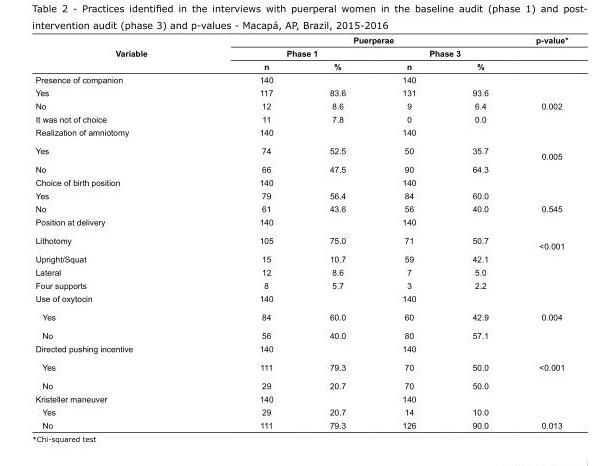table: (34, 35, 567, 429)
table column: (34, 35, 202, 429), (202, 35, 300, 429), (300, 35, 373, 429), (373, 35, 443, 429), (443, 35, 511, 429), (511, 35, 567, 429)
table row: (34, 230, 567, 252), (34, 141, 567, 162), (34, 357, 567, 376), (34, 307, 567, 325), (34, 125, 567, 141), (34, 291, 567, 307), (34, 325, 567, 341), (34, 341, 567, 357), (34, 215, 567, 230), (34, 376, 567, 391), (34, 85, 567, 99), (34, 201, 567, 215), (34, 391, 567, 405), (34, 46, 567, 59), (34, 59, 567, 72), (34, 72, 567, 85), (34, 99, 567, 112), (34, 112, 567, 125), (34, 162, 567, 175), (34, 175, 567, 188), (34, 188, 567, 201), (34, 252, 567, 265), (34, 265, 567, 278), (34, 278, 567, 291), (34, 405, 567, 418), (34, 35, 567, 46), (34, 418, 567, 429)
table spanning cell: (34, 35, 202, 72), (202, 35, 511, 46), (202, 46, 373, 59), (373, 46, 511, 59)
